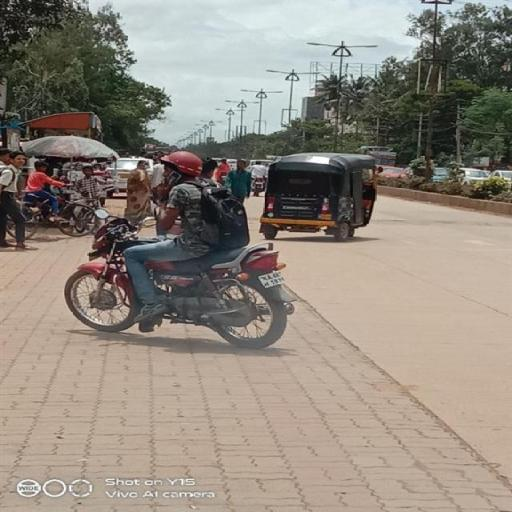using mobile: (154, 169, 184, 195)
